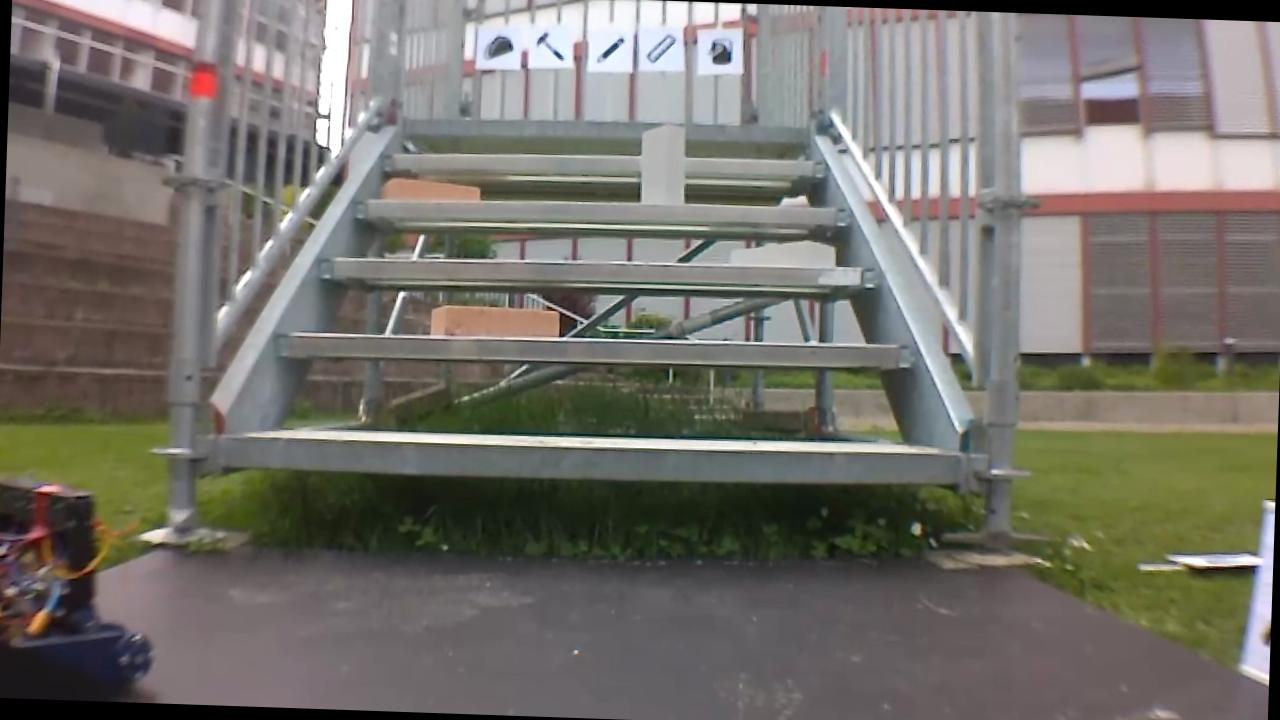brick: (431, 303, 558, 338), (640, 123, 684, 203), (379, 177, 478, 200)
bucket: (701, 30, 737, 69)
edge: (223, 428, 961, 493), (277, 324, 915, 374), (317, 247, 878, 296), (352, 190, 852, 232), (380, 144, 829, 181), (403, 112, 812, 144)
hammer: (532, 27, 566, 62)
pencil: (590, 32, 627, 68)
ruler: (644, 29, 678, 65)
steps: (214, 102, 985, 498)
taco: (478, 30, 516, 66)
